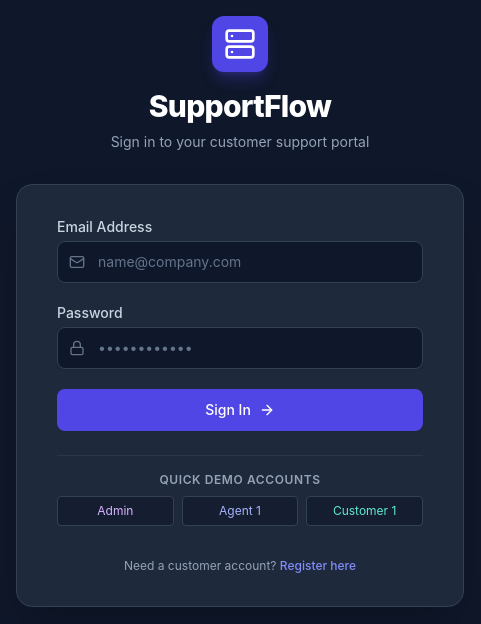
Login Page Component › fills demo credentials when quick demo buttons are clicked
Click the button "Admin": (115, 510) [57,496,174,526]
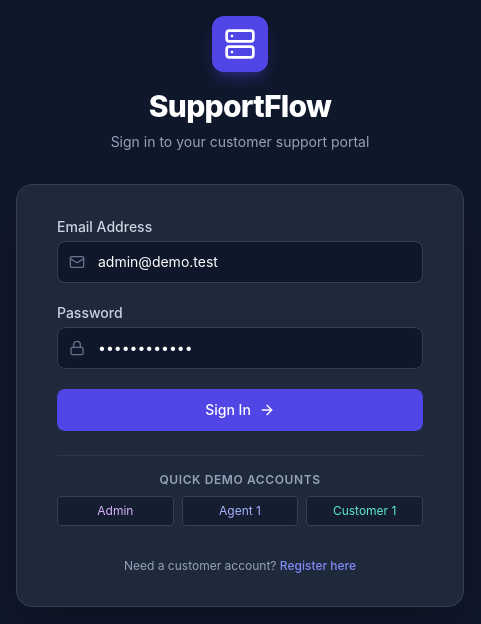
Expected: the field labelled "Email Address" holds "admin@demo.test", [57,240,423,282]
Expected: the password field labelled "Password" holds "Password123!", [57,326,423,368]
